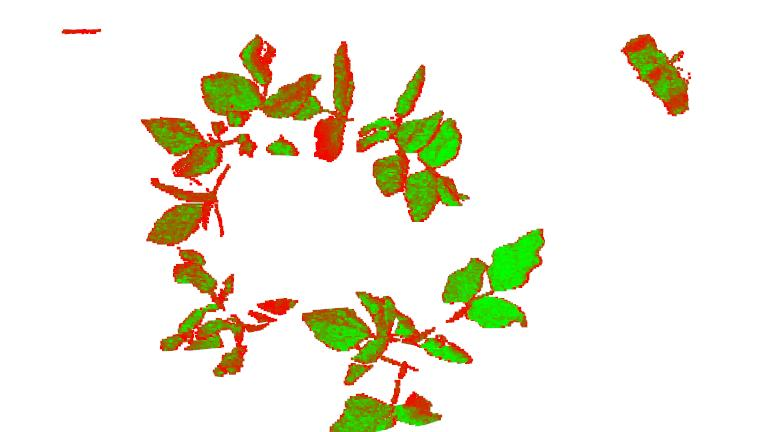mungbean: (303, 226, 545, 432), (139, 28, 301, 241), (301, 37, 469, 220), (161, 248, 299, 379)
